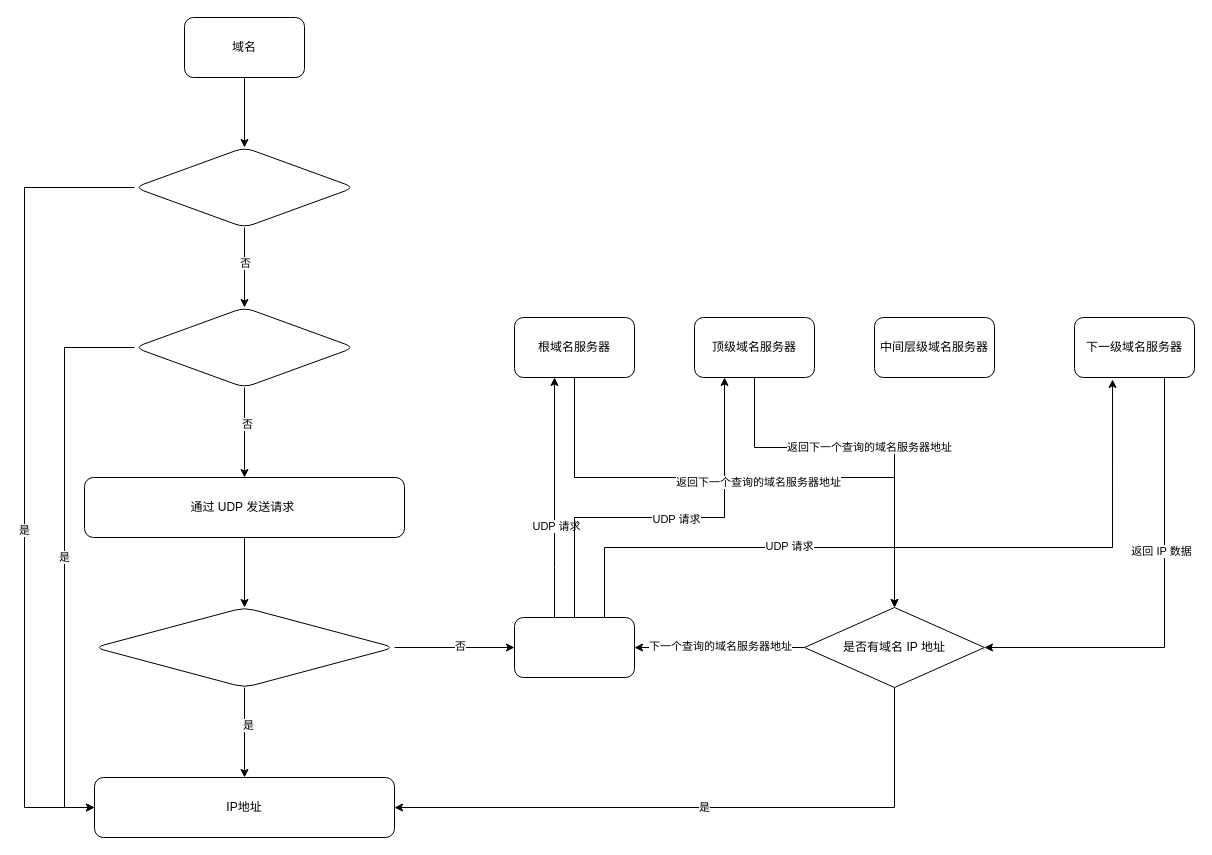
The diagram is 1212 pixels wide and 855 high, and some of its shapes have lost their labels. The box of each missing label's shape, as (x1, y1, x2, y2) in pixels:
代理获取域名地址: (514, 616, 634, 678)
域名服务器是否有缓存: (94, 606, 394, 688)
操作系统是否有缓存: (134, 306, 354, 388)
浏览器是否有缓存: (134, 146, 354, 228)
